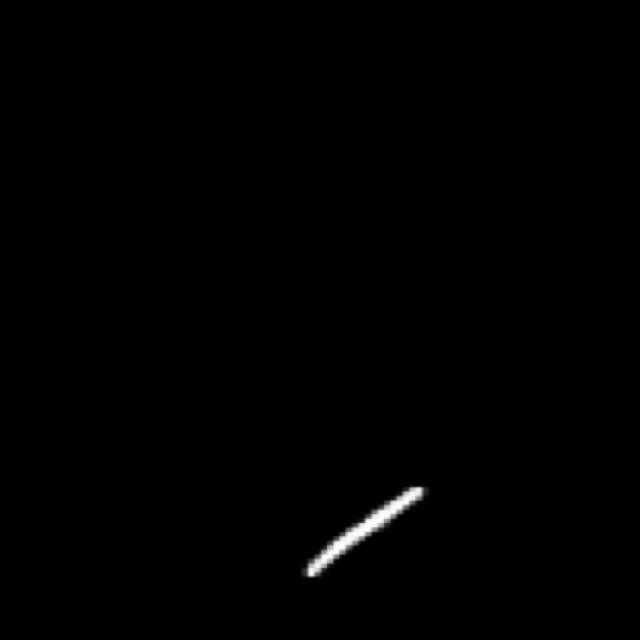one -1-: (286, 473, 439, 591)
